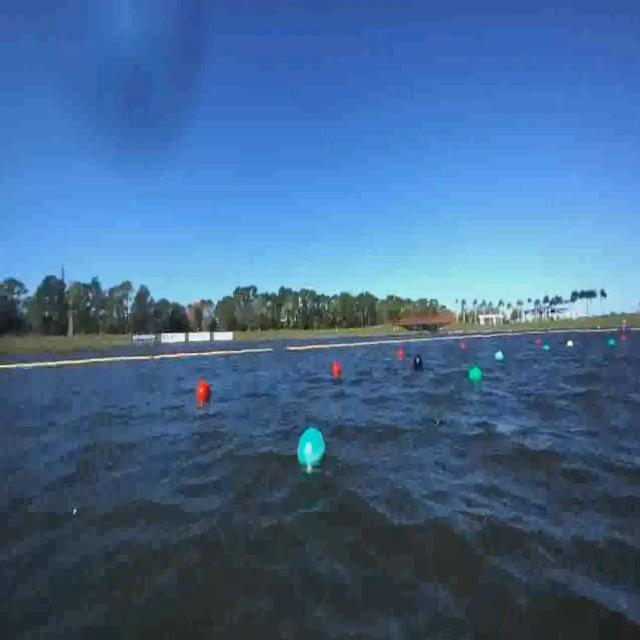black-buoy: (414, 354, 424, 370)
green-buoy: (298, 428, 327, 466), (471, 365, 484, 383)
red-buoy: (198, 379, 214, 402), (334, 361, 343, 376)
